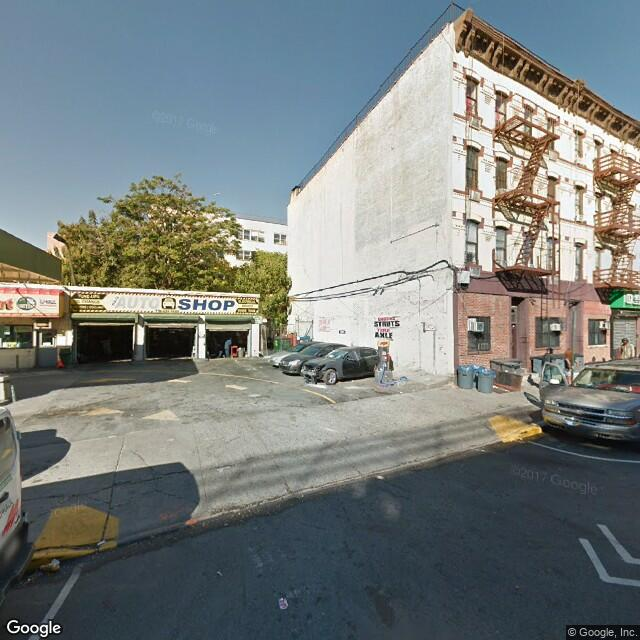litter: (272, 596, 290, 609), (96, 537, 106, 547), (48, 560, 58, 569), (213, 568, 221, 575), (374, 475, 384, 479)
